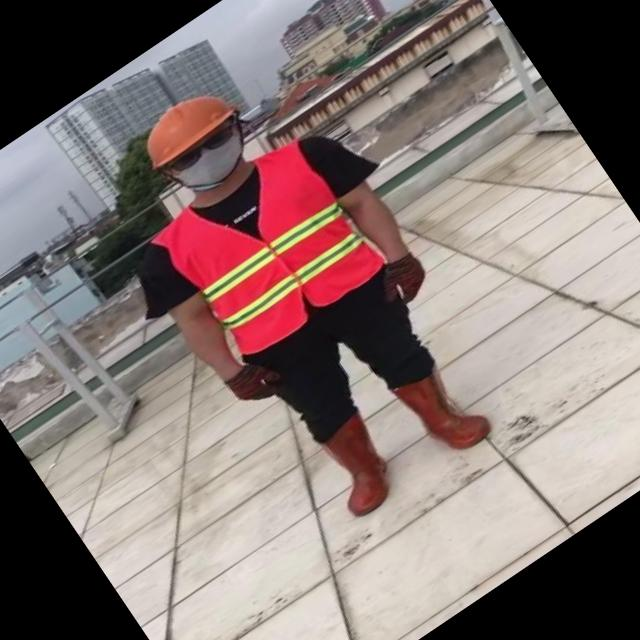hard_hat: (131, 74, 244, 172)
safety_vest: (150, 130, 390, 365)
vehicle: (74, 34, 530, 548)
work_boots: (390, 354, 496, 468), (308, 413, 408, 521)
